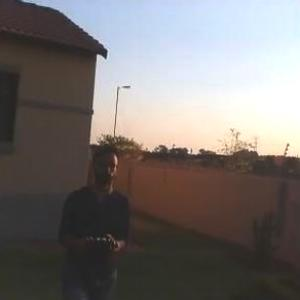follow: (48, 137, 135, 299)
